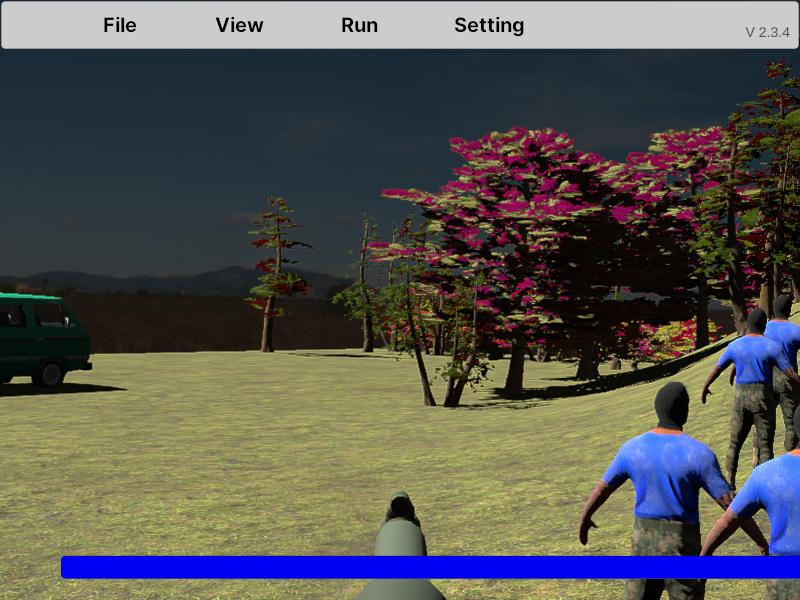Human: (576, 378, 774, 599), (693, 372, 800, 600), (700, 306, 800, 491), (732, 292, 800, 454)
car: (0, 289, 92, 393)
